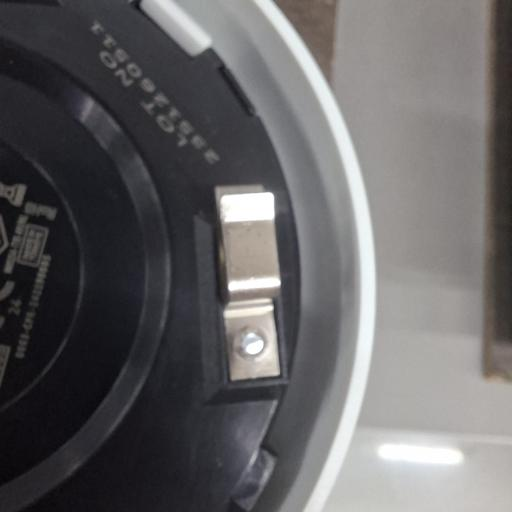yayli: (212, 181, 288, 388)
